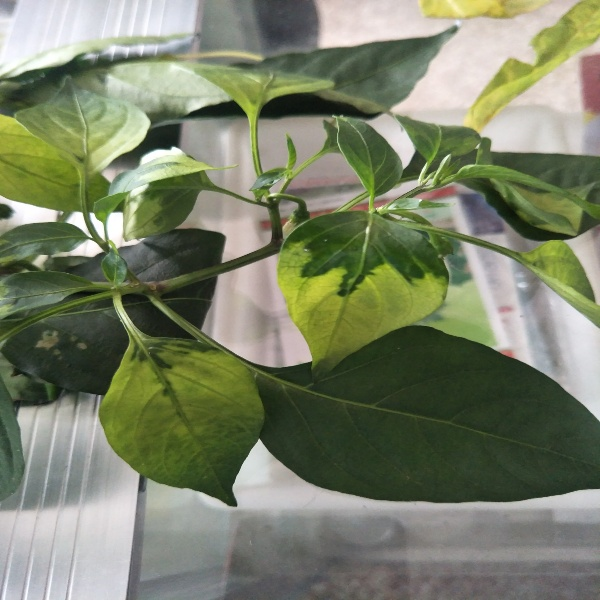Improper medication: (98, 337, 262, 504), (274, 244, 448, 373), (464, 1, 598, 134), (22, 107, 155, 167), (523, 239, 598, 327), (420, 1, 549, 27), (27, 322, 93, 370), (120, 187, 164, 242), (146, 158, 241, 180)
